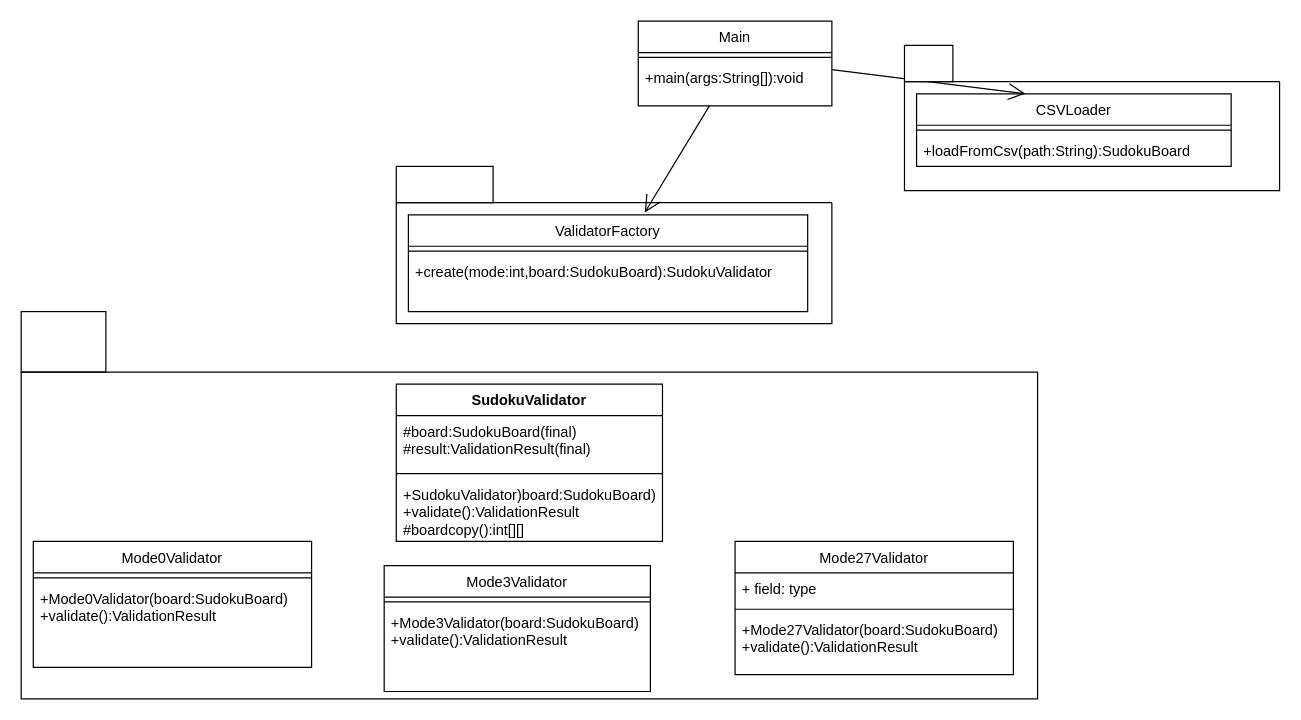
This 1301x720 diagram has some shape labels left out. Each missing label, with the centre of its shape:
"factory" belongs at point 444,184.
"utils" belongs at point 928,63.
"validators" belongs at point 63,341.
